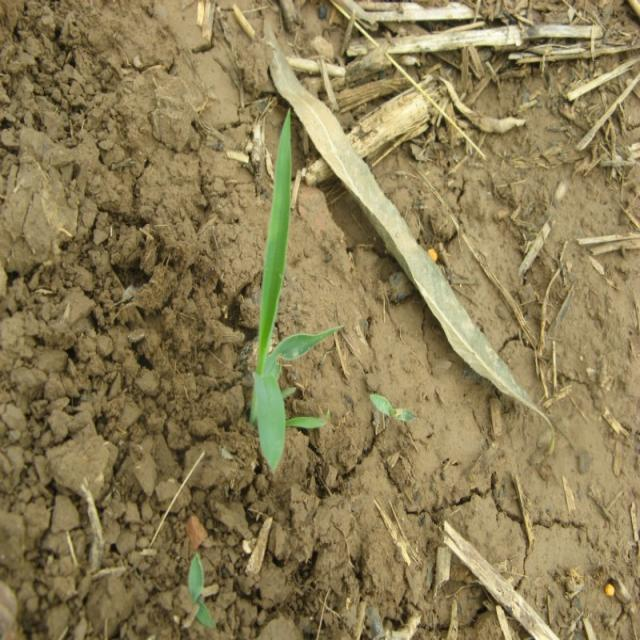bg: (246, 99, 337, 475)
